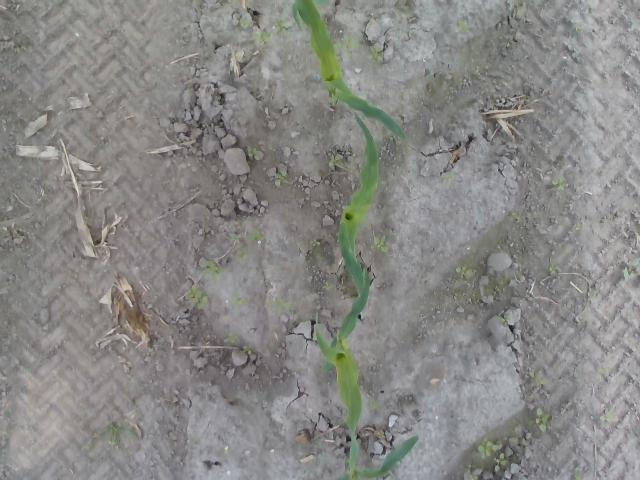Maize: (292, 1, 410, 142), (316, 266, 368, 436), (339, 111, 379, 301), (340, 430, 420, 480)
Weeds: (86, 424, 134, 452), (184, 286, 210, 310), (332, 36, 358, 57), (476, 439, 501, 459), (623, 258, 640, 283), (271, 168, 291, 188), (205, 260, 223, 281), (529, 371, 549, 389), (535, 407, 549, 432), (266, 299, 292, 312), (252, 29, 272, 44), (367, 46, 385, 62), (456, 266, 476, 280), (598, 410, 618, 424), (272, 19, 290, 34), (328, 154, 344, 170), (372, 234, 386, 252), (248, 232, 264, 247), (494, 453, 508, 470), (442, 170, 456, 184), (245, 146, 258, 161), (552, 178, 568, 190), (456, 20, 468, 34), (225, 334, 238, 346), (236, 251, 250, 262), (232, 295, 242, 308), (574, 467, 584, 480), (549, 266, 563, 275), (240, 17, 250, 29), (230, 234, 240, 244), (244, 344, 254, 354), (322, 280, 332, 290), (311, 238, 320, 248), (573, 23, 582, 30)
